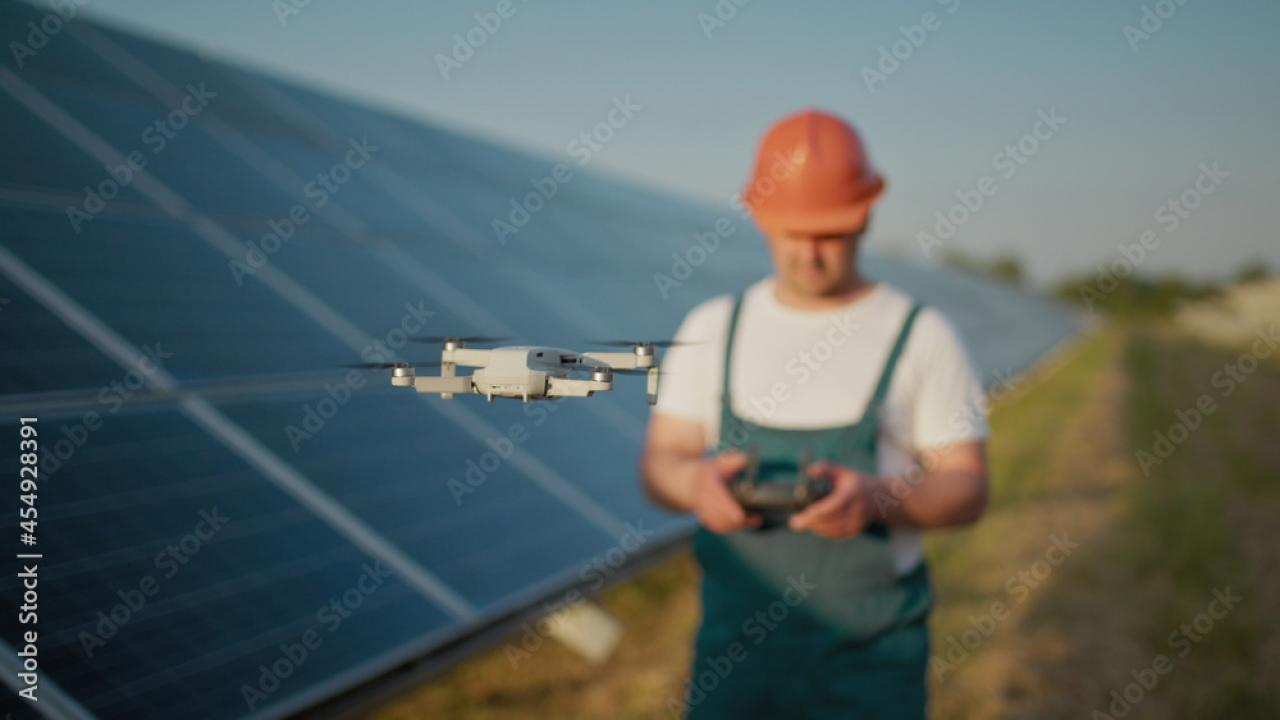Drone: (334, 316, 714, 430)
